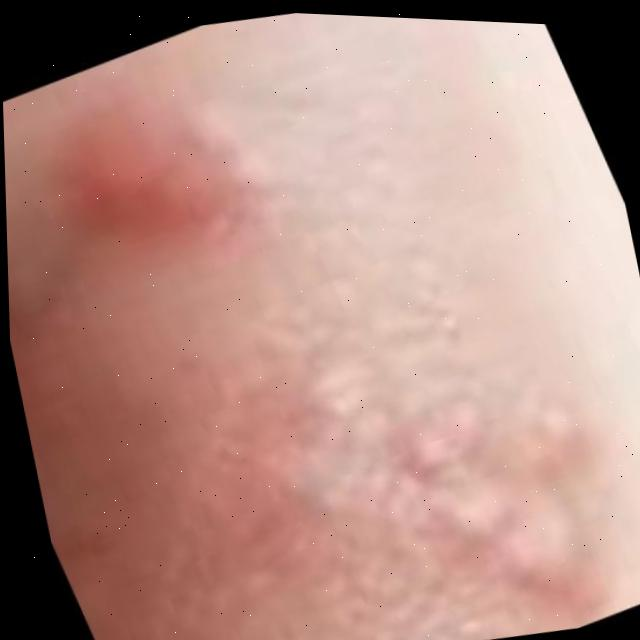Eczema: (27, 95, 292, 291), (413, 383, 589, 572)
